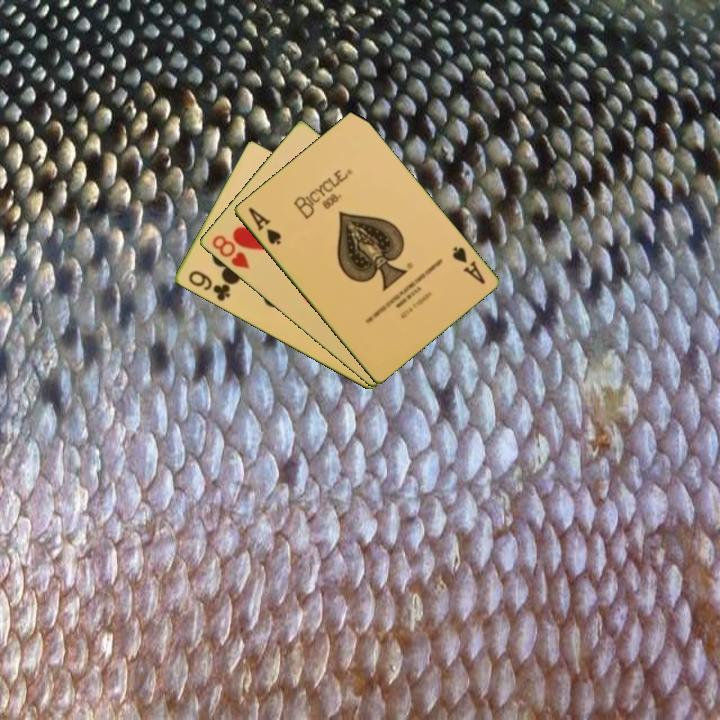8h: (208, 231, 252, 272)
9c: (184, 267, 233, 304)
As: (244, 204, 284, 248), (448, 243, 488, 287)
